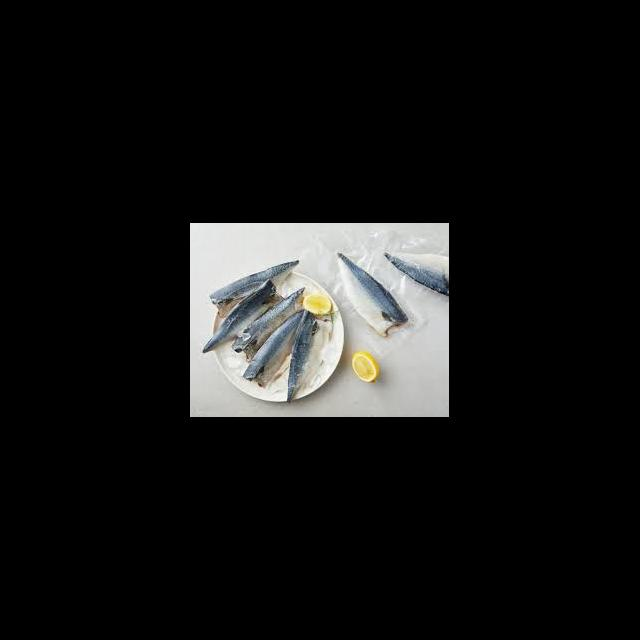fish: (338, 253, 410, 336), (204, 280, 282, 352), (244, 312, 305, 388)
